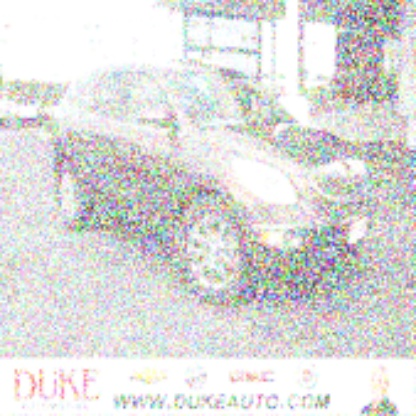Vehicle: (49, 59, 379, 308)
